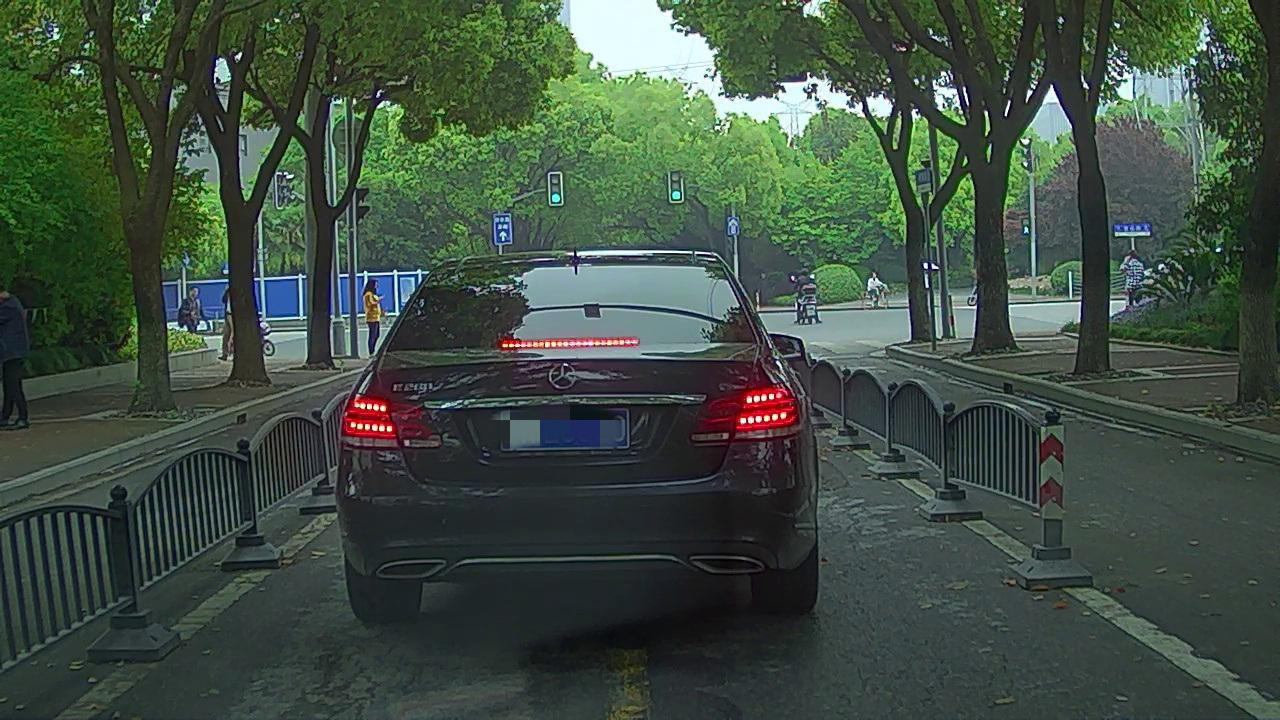traffic_light: (549, 173, 561, 205), (671, 170, 683, 202)
